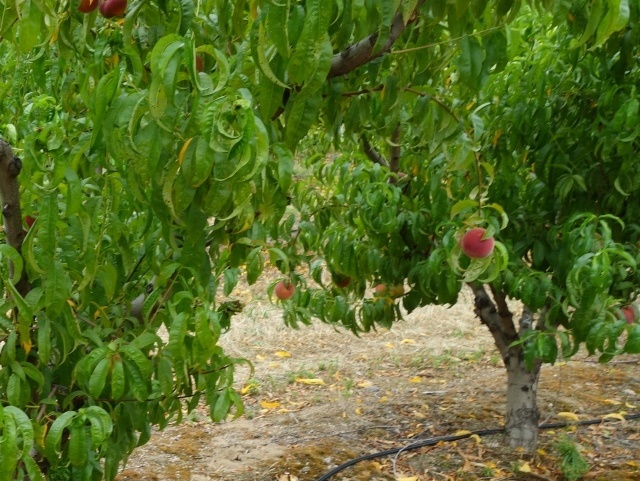peach: (456, 222, 497, 259), (96, 1, 132, 21), (272, 278, 297, 303), (615, 300, 639, 325), (74, 1, 101, 19), (331, 270, 353, 292)
